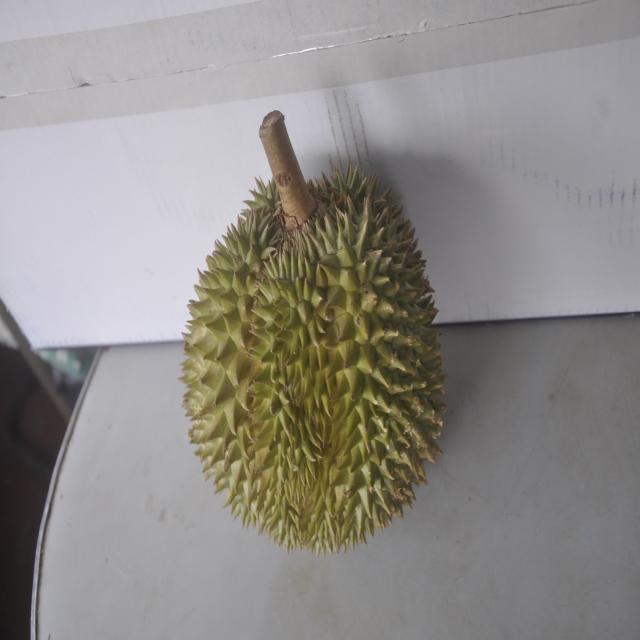mature: (182, 130, 442, 556)
